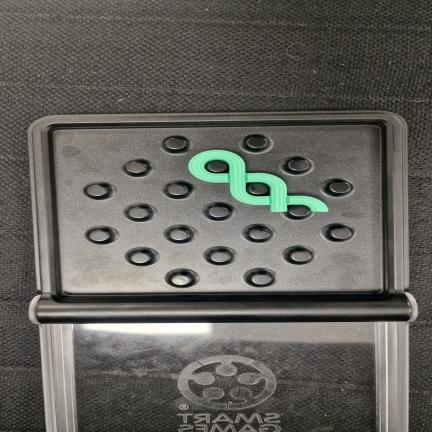F_Teal: (189, 150, 328, 211)
board: (28, 111, 417, 323)
hinge: (45, 299, 415, 319)
pin: (205, 160, 228, 173), (288, 158, 309, 172), (329, 181, 351, 194), (246, 136, 267, 149), (290, 250, 311, 263), (247, 183, 269, 195), (288, 205, 310, 217), (330, 227, 352, 239), (248, 228, 270, 240), (88, 230, 110, 242), (165, 137, 185, 150), (125, 161, 146, 173), (167, 184, 188, 196), (86, 185, 107, 197), (208, 206, 229, 218), (169, 229, 190, 241), (129, 252, 150, 264), (210, 251, 231, 263), (251, 273, 272, 285), (128, 207, 148, 219), (171, 274, 190, 286)
